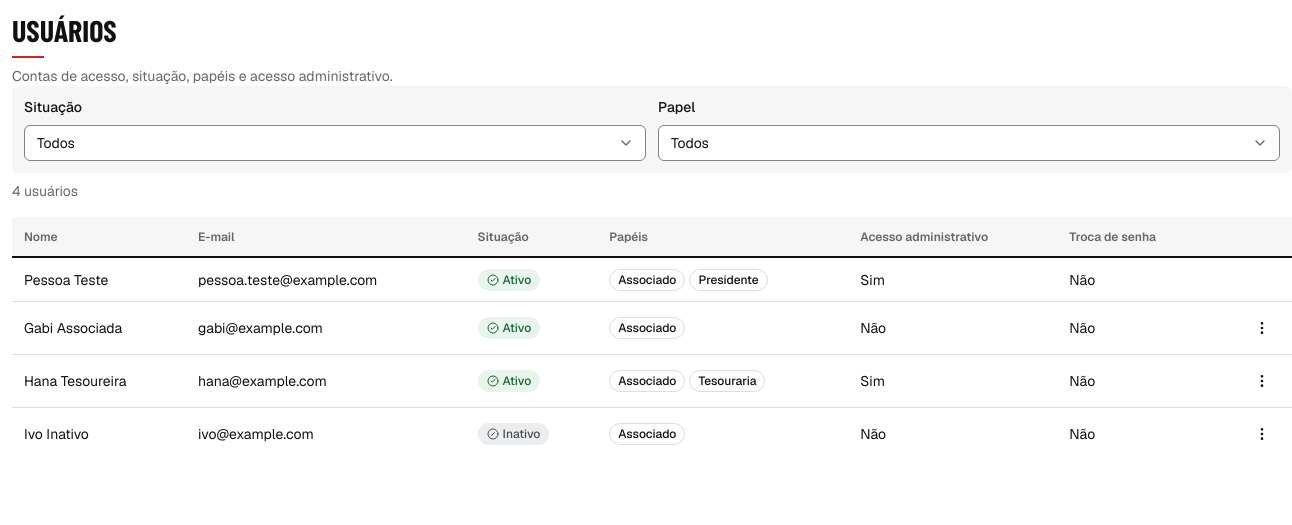
Test: permissão de cada ação, isolada › leitura + só identity:user:update: aparece só o que ela libera
Expected: the text "ivo@example.com" is shown, x1=186 y1=407 x2=466 y2=460
Step 1. Click the button named "Ações de Gabi Associada" → (1262, 328), box x1=1244 y1=310 x2=1280 y2=346
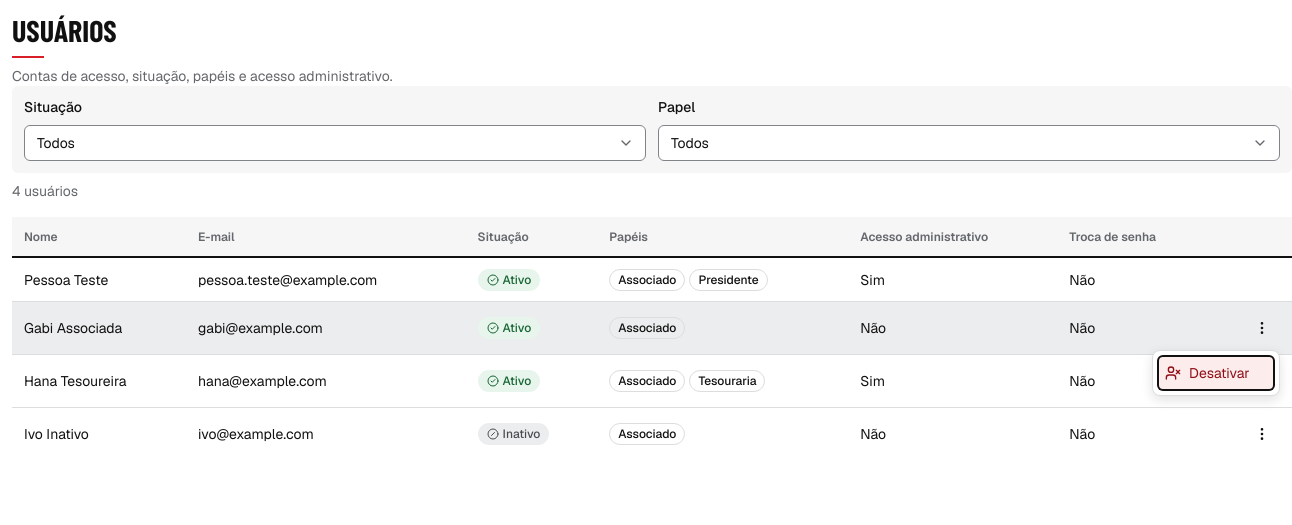
Expected: the menu is shown
Step 2. Press Escape in the menu, box x1=1152 y1=350 x2=1280 y2=396
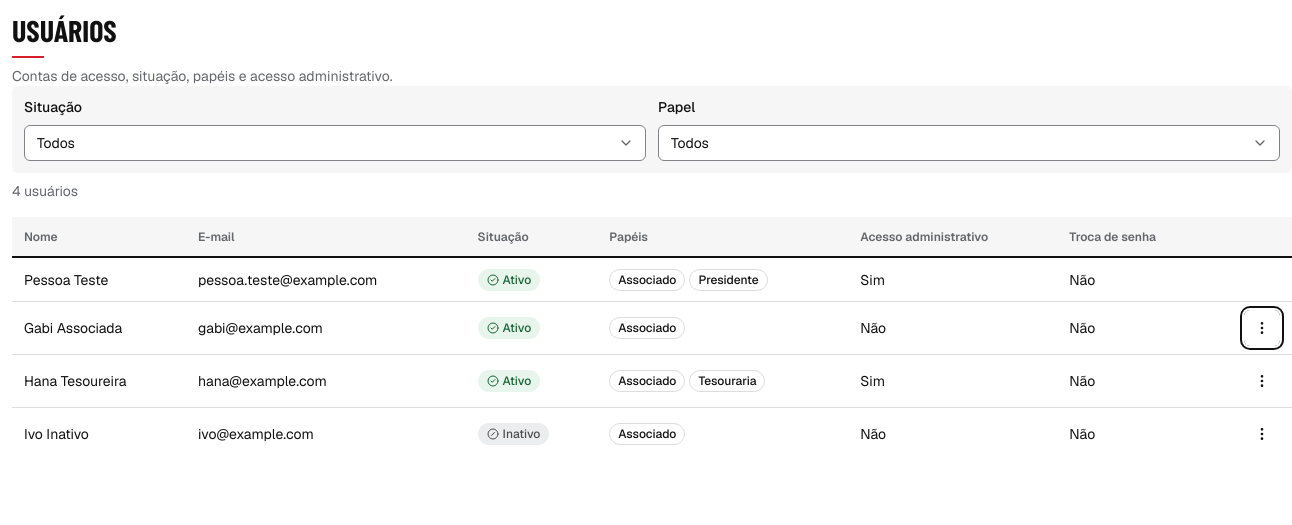
Expected: the menu is gone
Step 3. Click the button named "Ações de Hana Tesoureira" → (1262, 381), box x1=1244 y1=363 x2=1280 y2=399
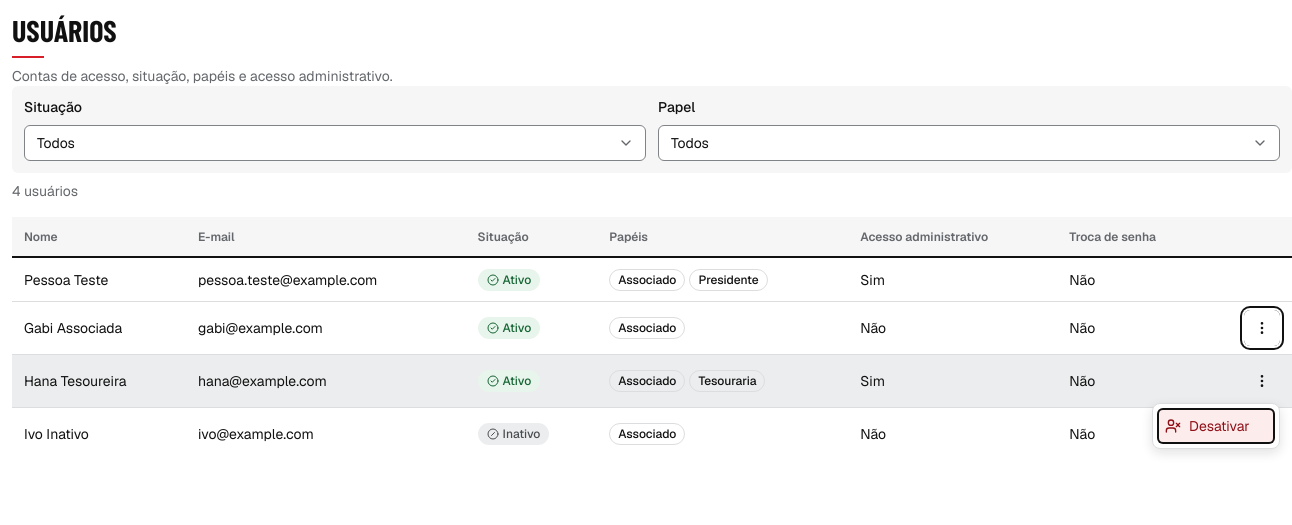
Expected: the menu is shown
Step 4. Press Escape in the menu, box x1=1152 y1=403 x2=1280 y2=449
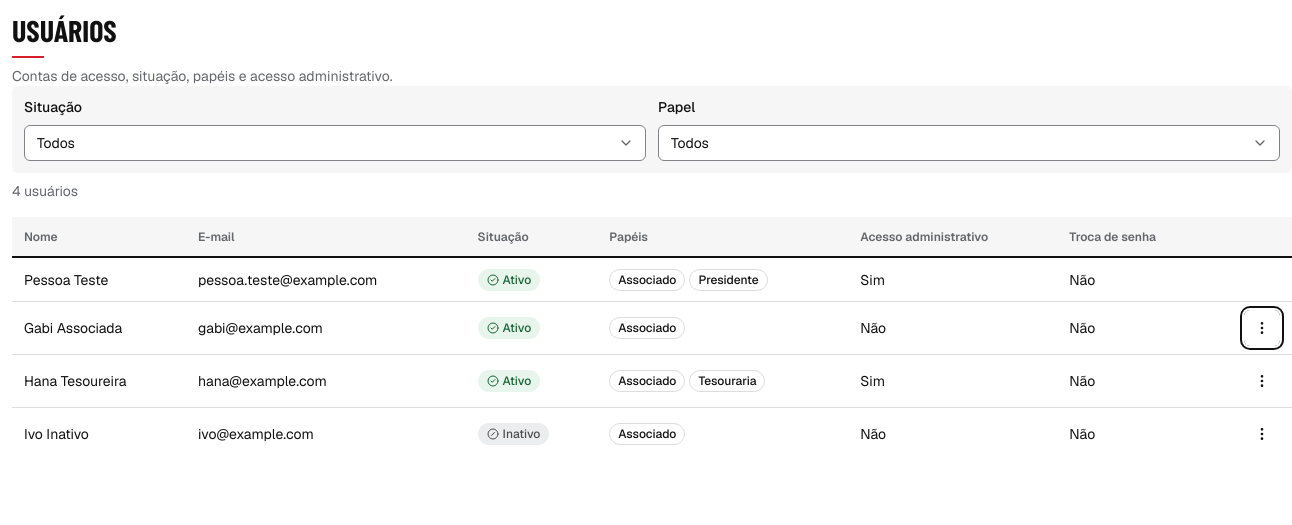
Expected: the menu is gone
Step 5. Click the button named "Ações de Ivo Inativo" → (1262, 434), box x1=1244 y1=416 x2=1280 y2=452
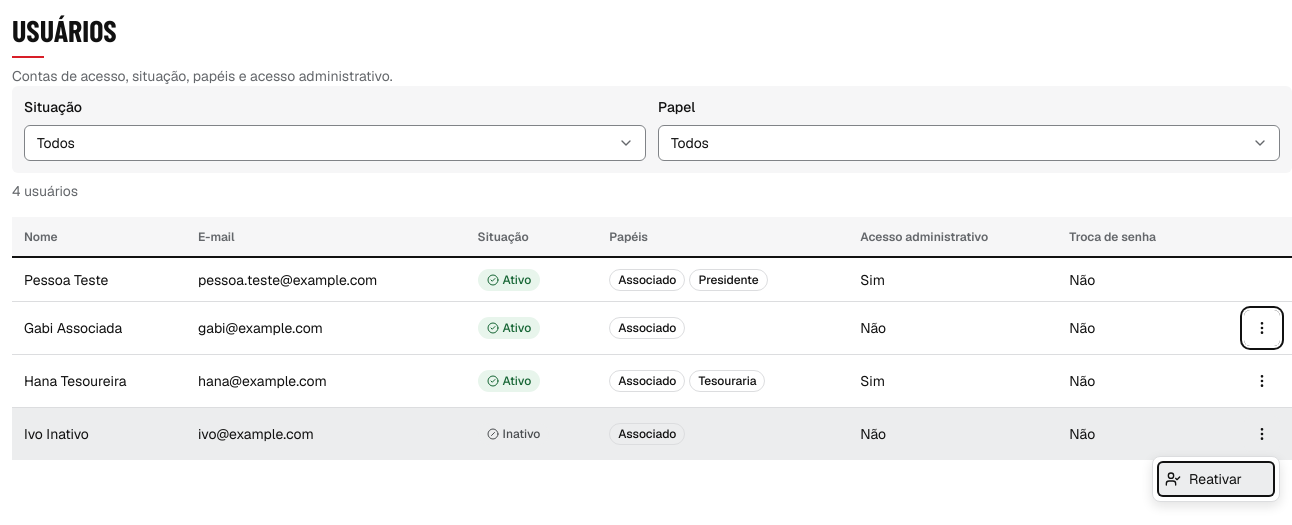
Expected: the menu is shown
Step 6. Press Escape in the menu, box x1=1152 y1=456 x2=1280 y2=502
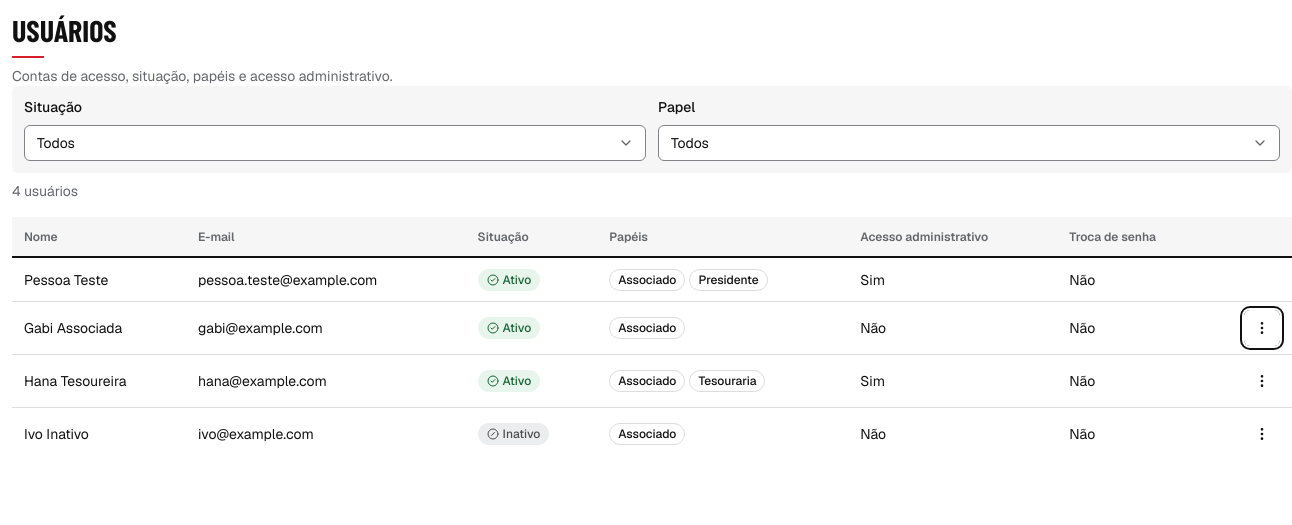
Expected: the menu is gone
